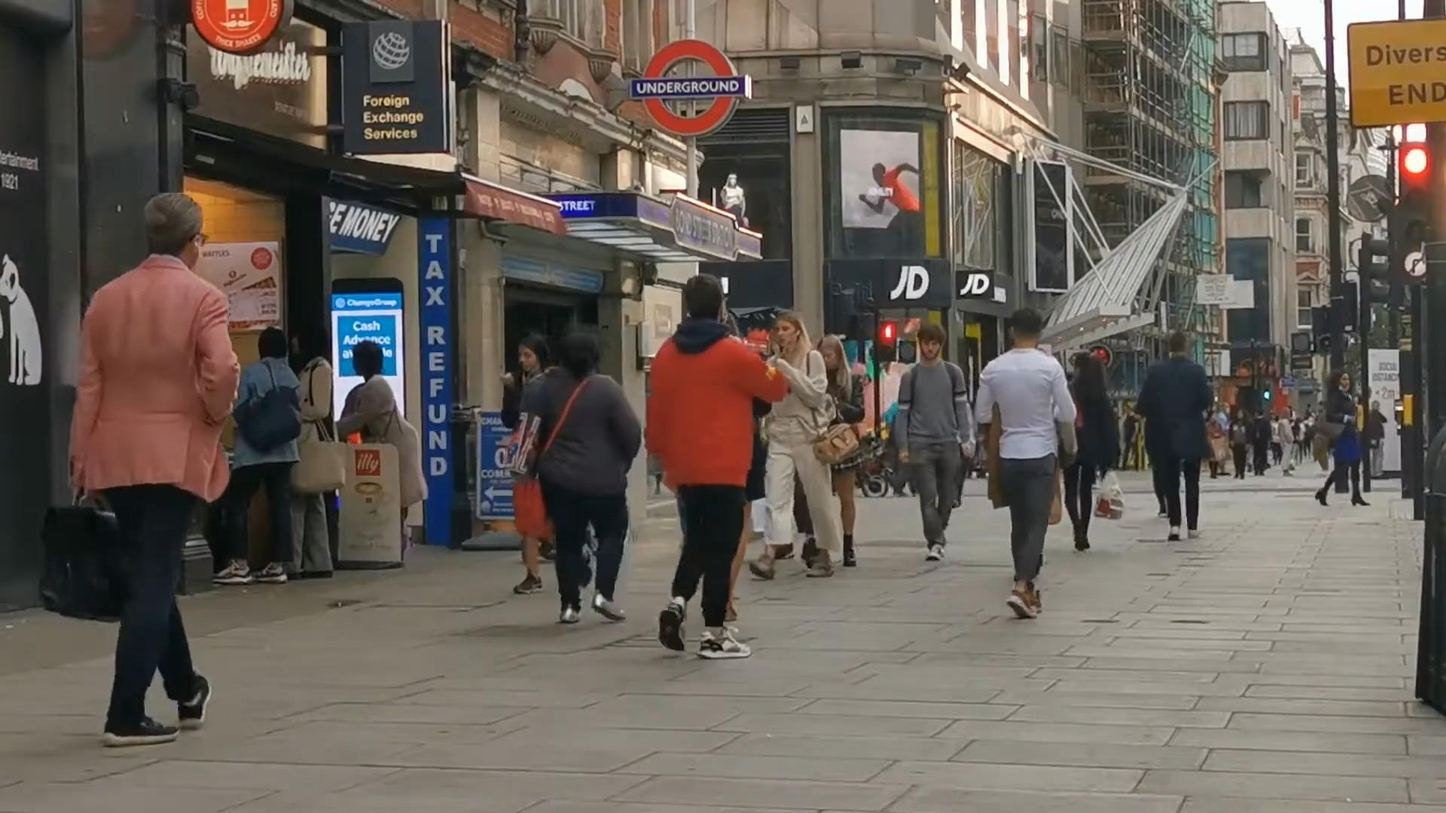no-helmet: (144, 192, 208, 271), (685, 273, 729, 324), (557, 332, 600, 383), (817, 334, 851, 380), (776, 314, 811, 352), (1010, 307, 1042, 348), (518, 335, 550, 375), (1075, 354, 1106, 392), (917, 323, 947, 362), (1325, 369, 1355, 394), (1169, 331, 1187, 358)
